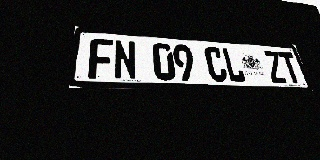0: (152, 42, 176, 81)
9: (172, 44, 196, 81)
C: (203, 46, 228, 82)
F: (88, 38, 113, 79)
L: (221, 47, 246, 82)
N: (114, 40, 137, 80)
T: (278, 51, 303, 84)
Z: (263, 50, 288, 83)
